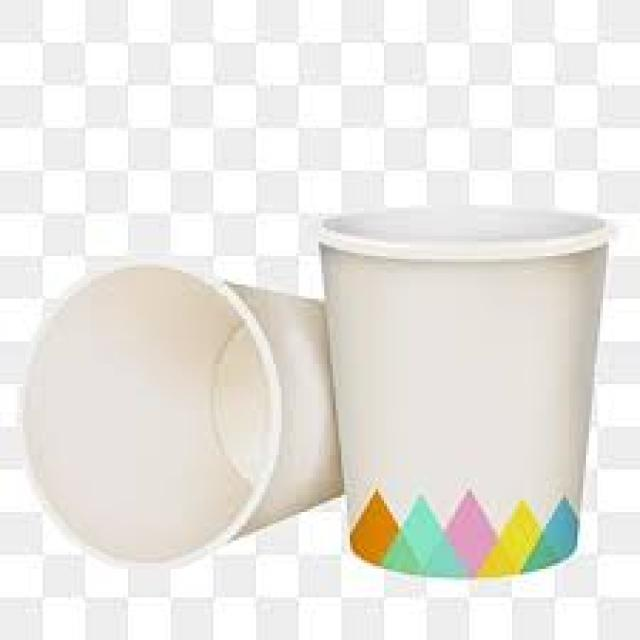PaperCardboard: (320, 205, 616, 574), (20, 259, 346, 568)
